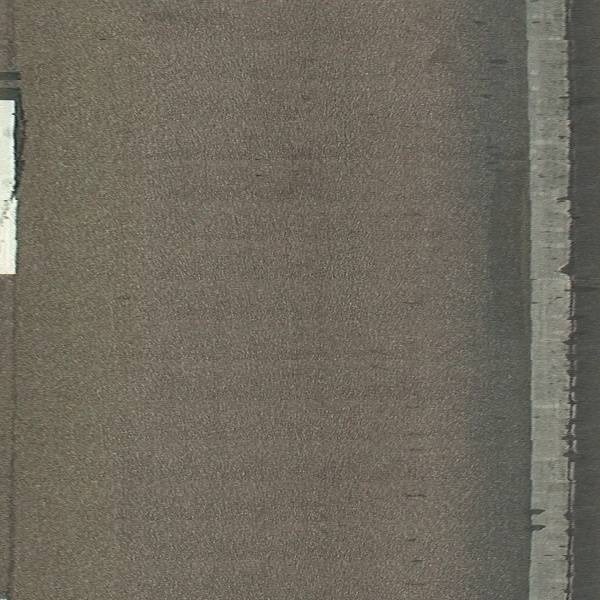road_damage: (556, 182, 591, 599), (398, 426, 436, 594), (517, 503, 546, 536)
